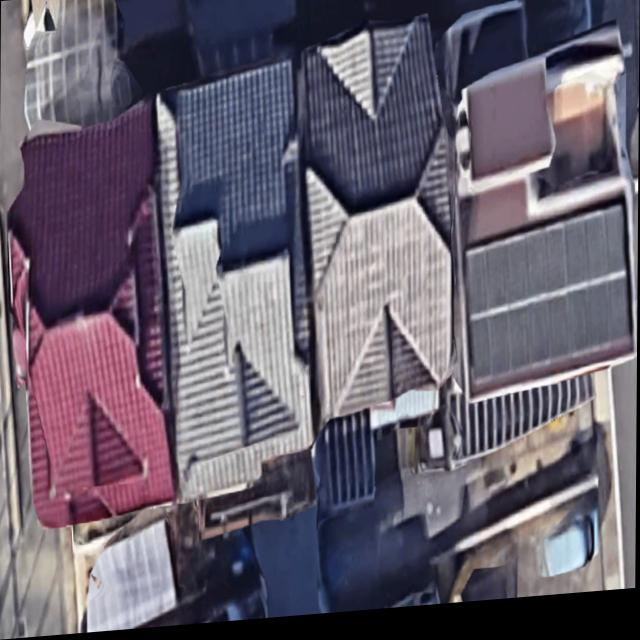Batiment: (8, 102, 175, 526), (452, 34, 635, 408), (156, 64, 312, 501), (302, 23, 452, 428)
